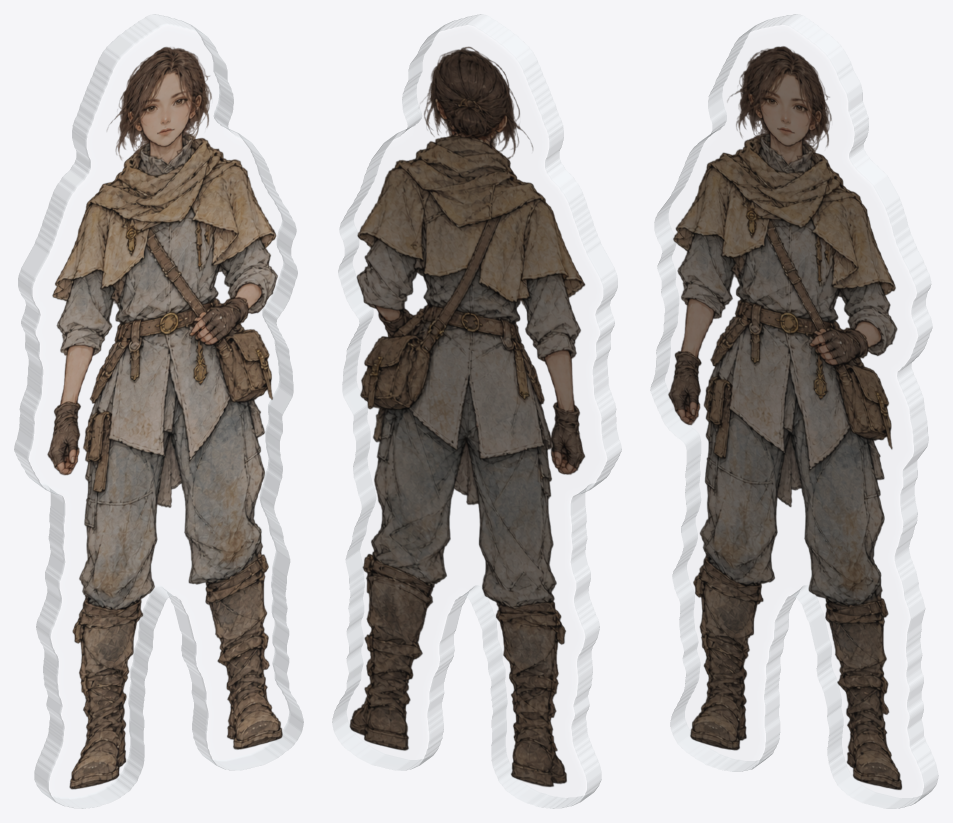
Rendered from ines-empty.glb.
3 renders of one model, left to right at view 1: azimuth 30°, elevation 25°; view 2: azimuth 150°, elevation 25°; view 3: azimuth 330°, elevation 25°, orthographic.
Parts seen in each view (by area): view 1: preview_standee; view 2: preview_standee; view 3: preview_standee.
Boxes of the visible parts, box(x1,y1,x2,y2) form: preview_standee: box(14, 14, 303, 808); preview_standee: box(332, 14, 621, 808); preview_standee: box(650, 14, 938, 808).
Bounding box in the file's own units: 0.4145 × 1.1 × 0.04.
Materials: 3 (2 with a texture image).
